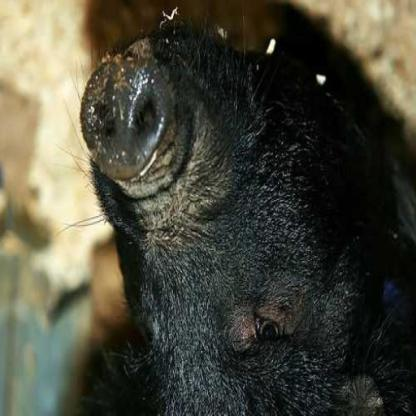boar: (78, 14, 415, 416)
